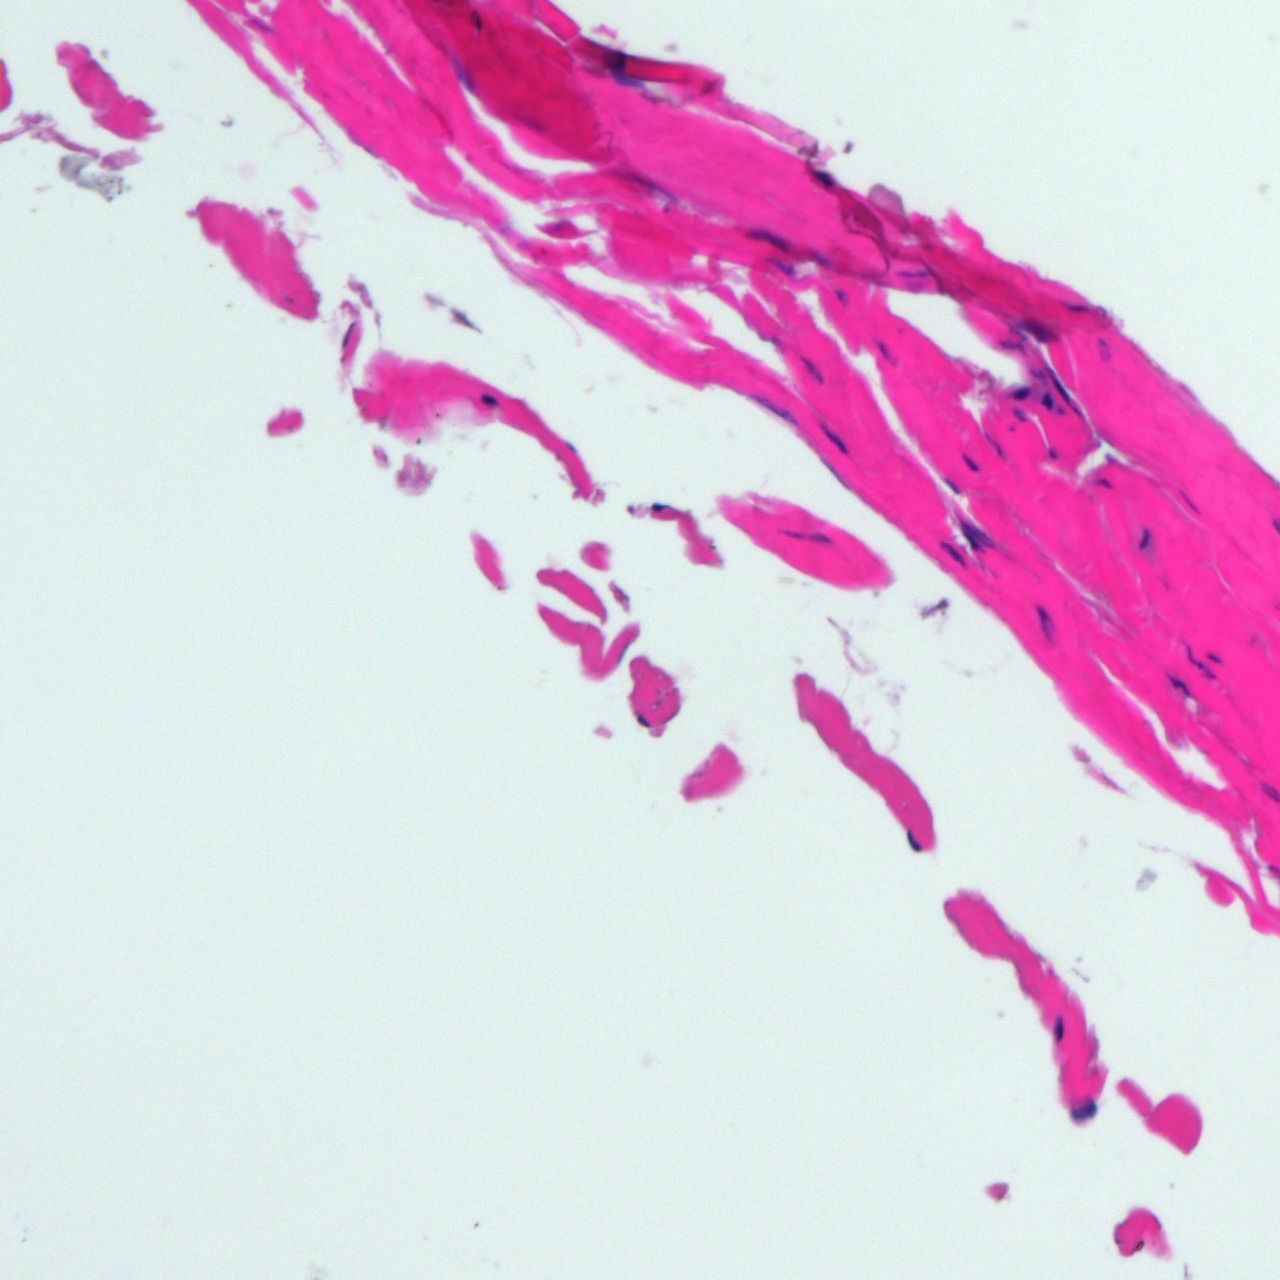nucleus-HE: (952, 512, 995, 557), (1176, 639, 1218, 681), (749, 392, 795, 426), (1015, 316, 1057, 348), (1042, 366, 1074, 404), (937, 536, 970, 572), (819, 421, 849, 459), (1164, 670, 1195, 703), (747, 225, 789, 249), (1031, 601, 1054, 640), (779, 527, 829, 542), (801, 356, 826, 385), (1067, 1096, 1096, 1120), (810, 165, 838, 189), (1178, 489, 1202, 517), (767, 255, 796, 278), (1010, 382, 1034, 405), (960, 451, 981, 476), (605, 49, 626, 70), (339, 321, 354, 348), (942, 476, 961, 496), (875, 338, 891, 361), (1205, 648, 1223, 666), (1139, 527, 1151, 551), (1062, 301, 1090, 311), (833, 285, 847, 304), (1040, 391, 1054, 410), (470, 7, 481, 31), (1053, 1014, 1063, 1040), (479, 392, 495, 407), (1092, 479, 1112, 490), (651, 503, 669, 511), (1048, 449, 1059, 460)
